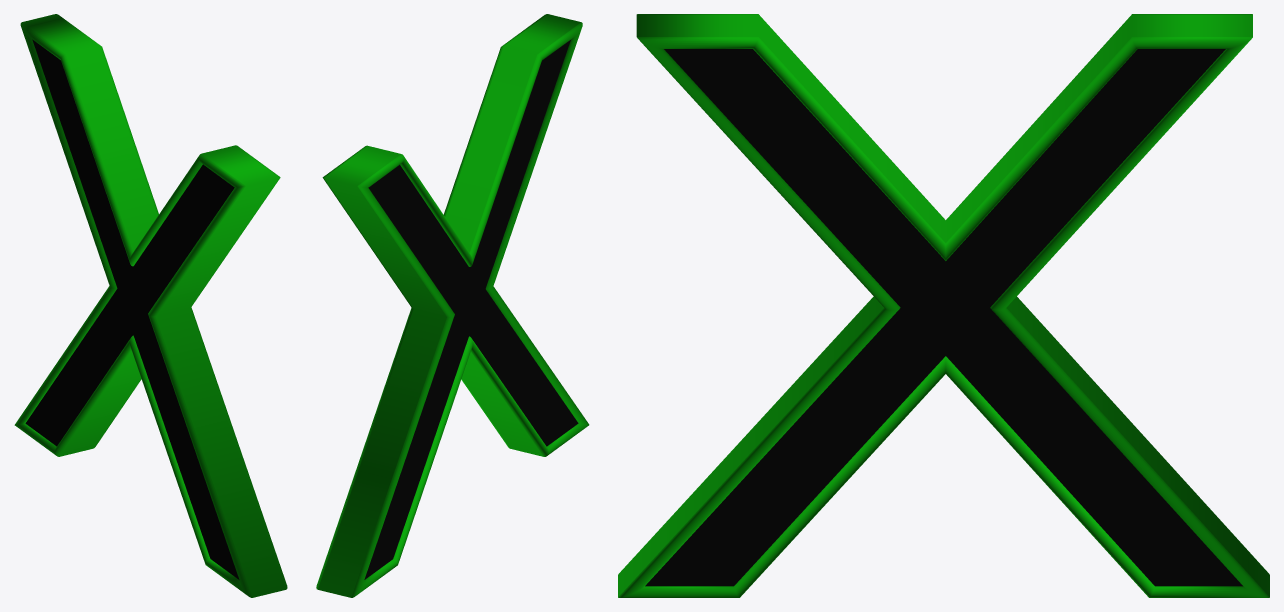
The picture shows the model from 3 angles, left to right: view 1: azimuth 30°, elevation 25°; view 2: azimuth 150°, elevation 25°; view 3: azimuth 270°, elevation 25°; orthographic projection. The views are drawn at different scales.
Visible parts, largest first — view 1: X; view 2: X; view 3: X.
Part boxes in pixels (x1=…): X: x1=14, y1=14, x2=287, y2=597; X: x1=316, y1=14, x2=589, y2=597; X: x1=618, y1=14, x2=1269, y2=597.
Size of the model in its own units: 7.4 by 69.6 by 73.38.
